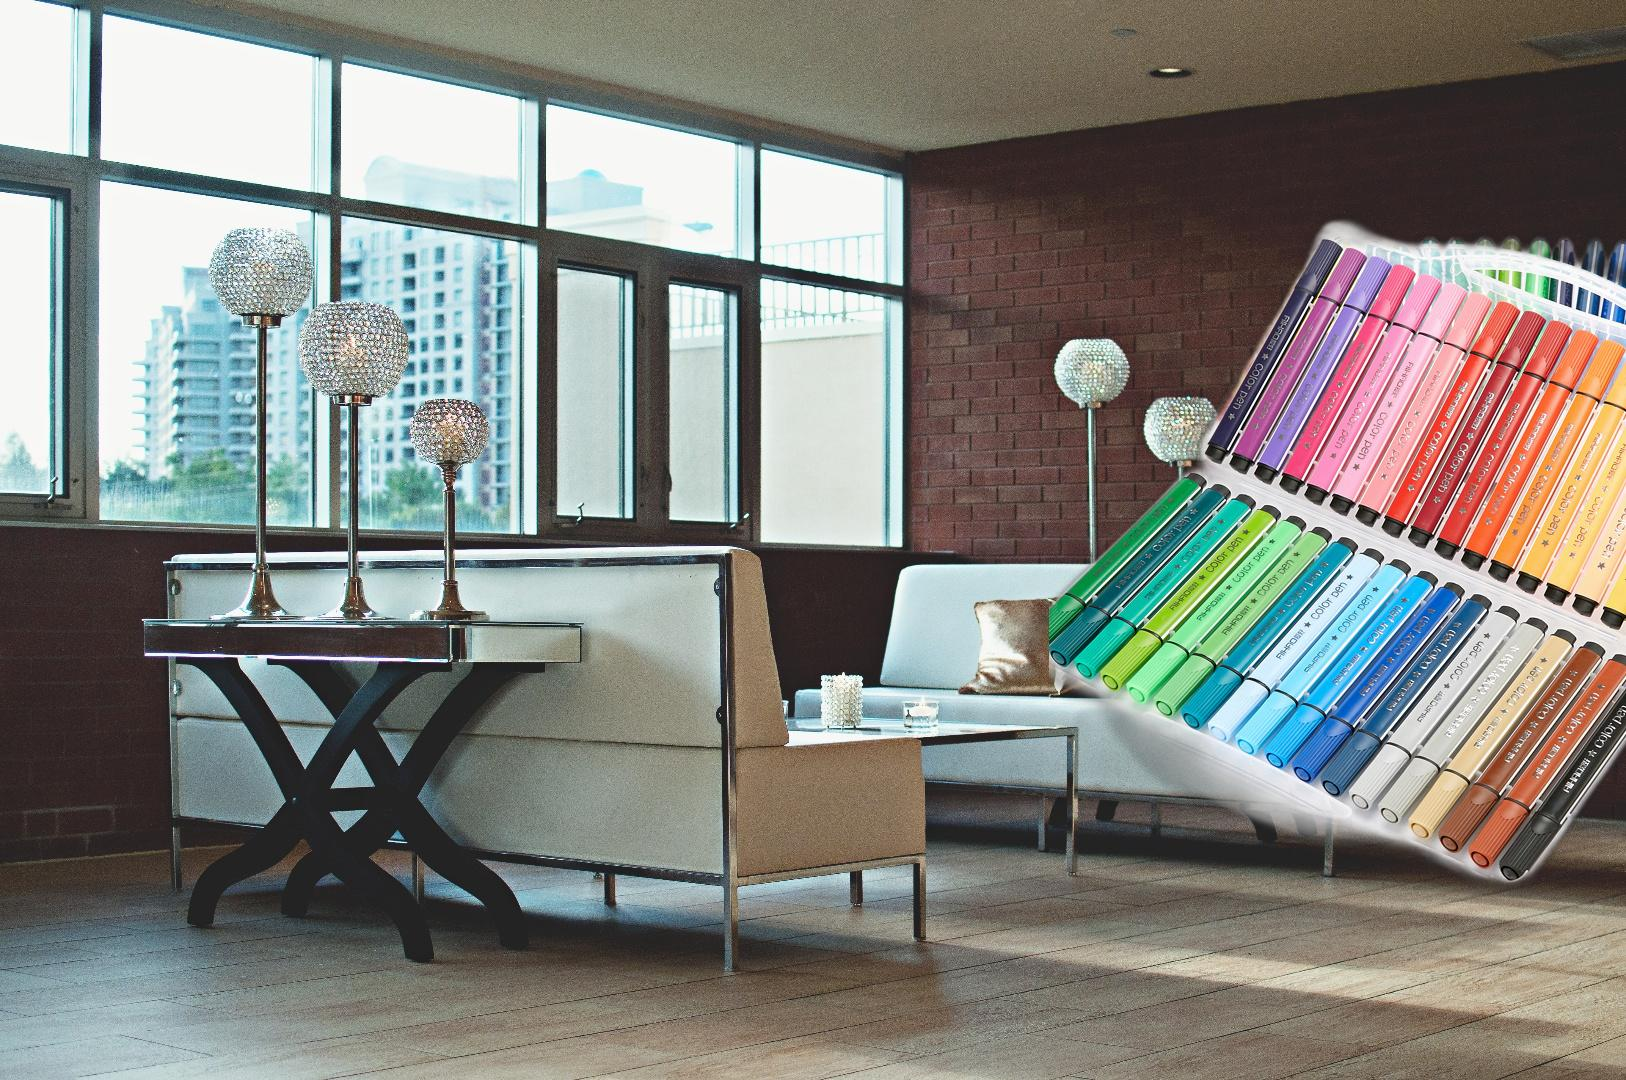penholder: (1049, 207, 1626, 906)
